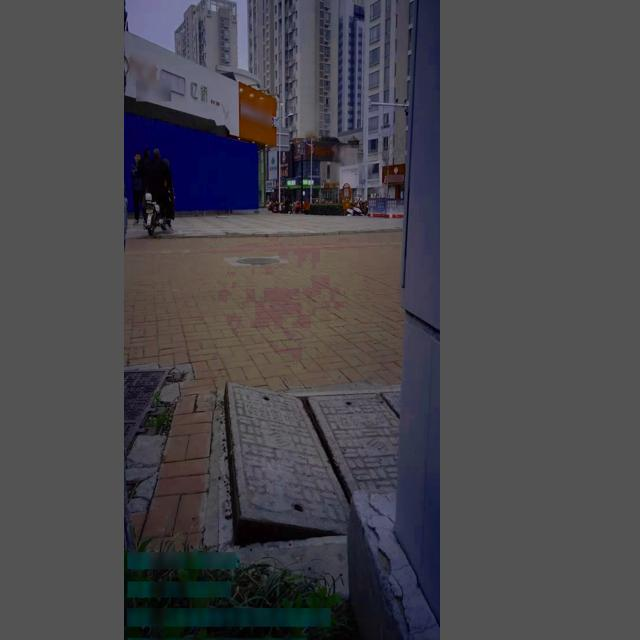uncovered: (215, 377, 398, 557)
